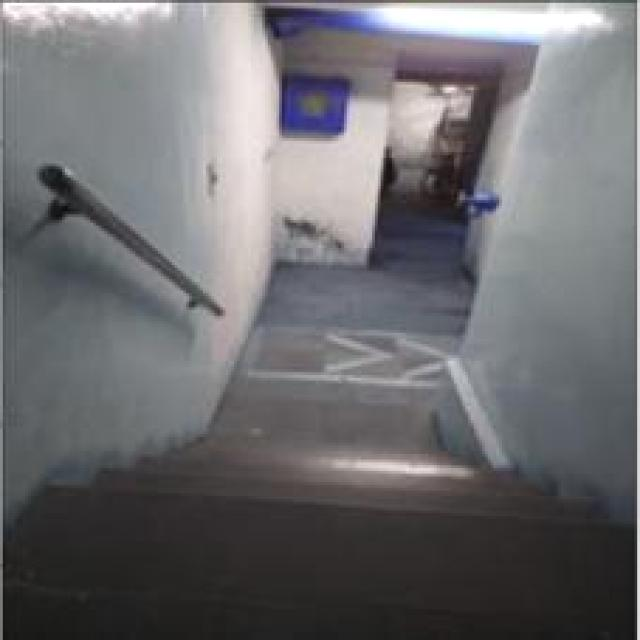stair: (28, 396, 603, 567)
